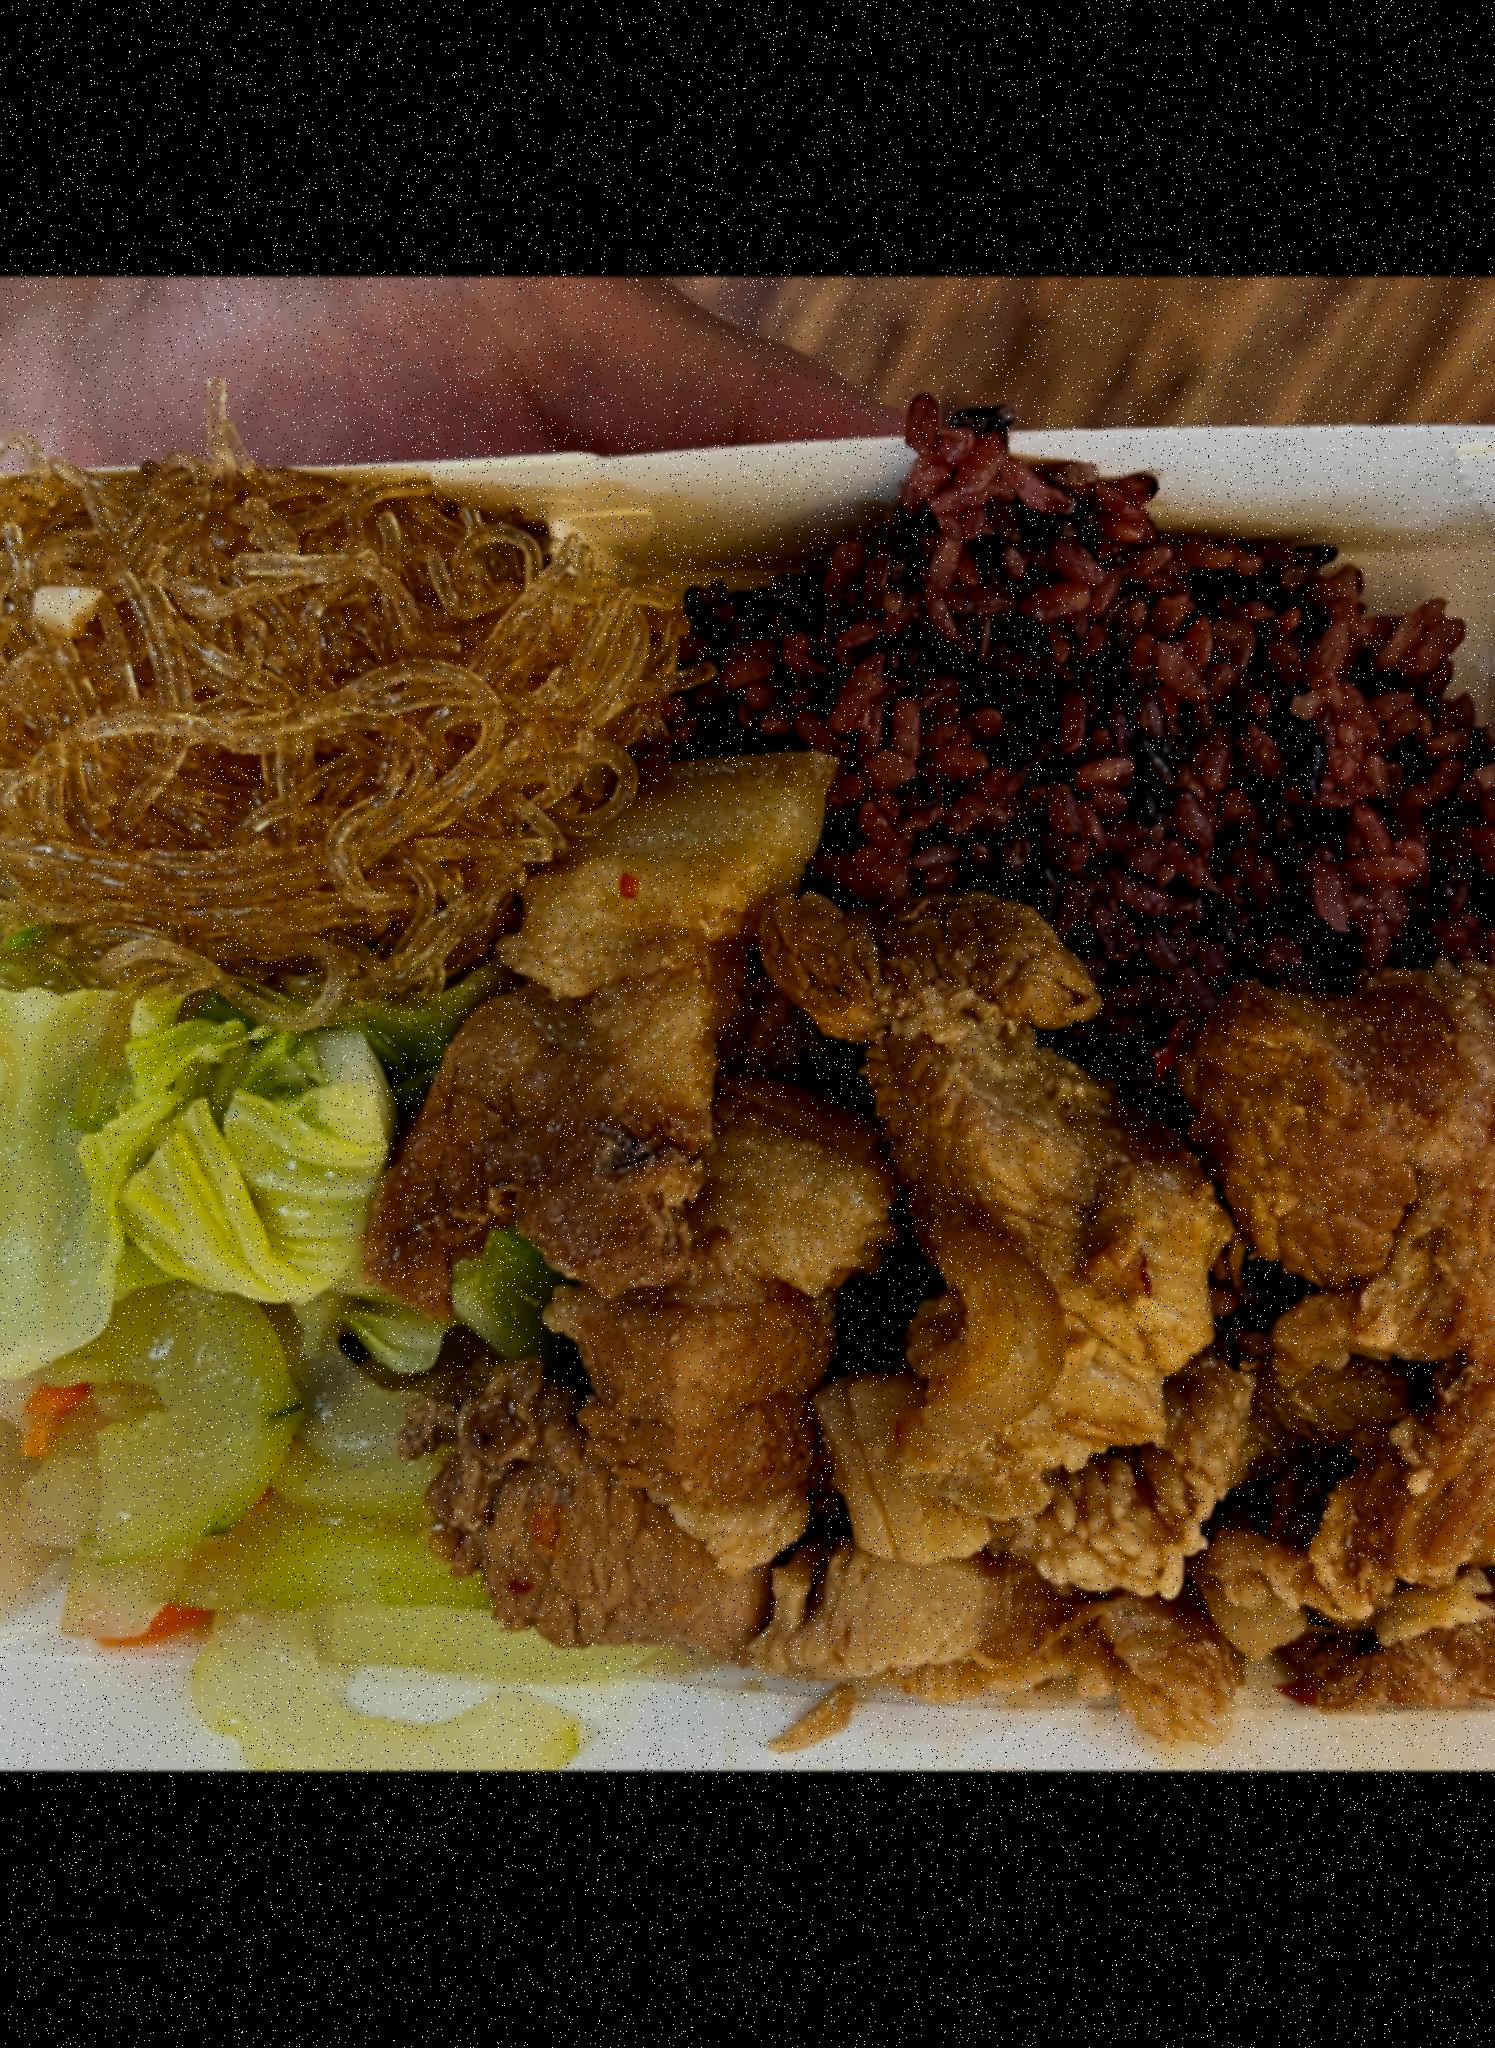box: (0, 382, 1495, 1736)
braised pork: (425, 817, 1495, 1719)
purple rice: (615, 453, 1495, 1269)
side dish: (0, 884, 600, 1743), (0, 448, 662, 979)
